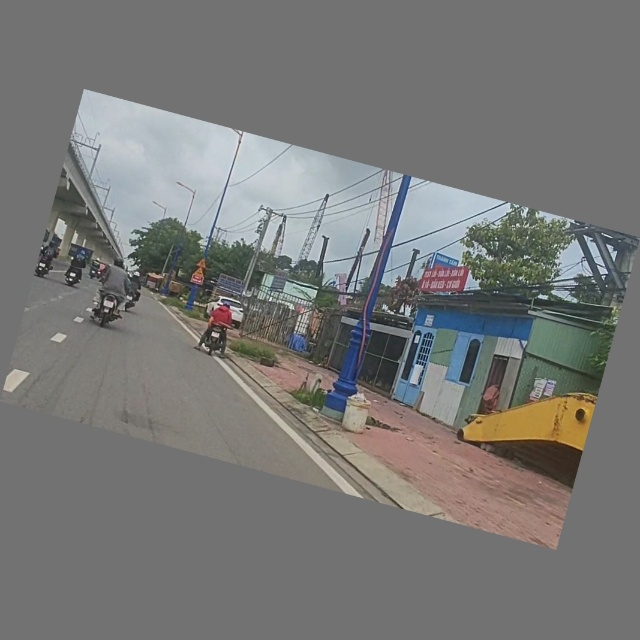W.203c: (195, 257, 209, 270)
W.245a: (192, 266, 208, 278)
